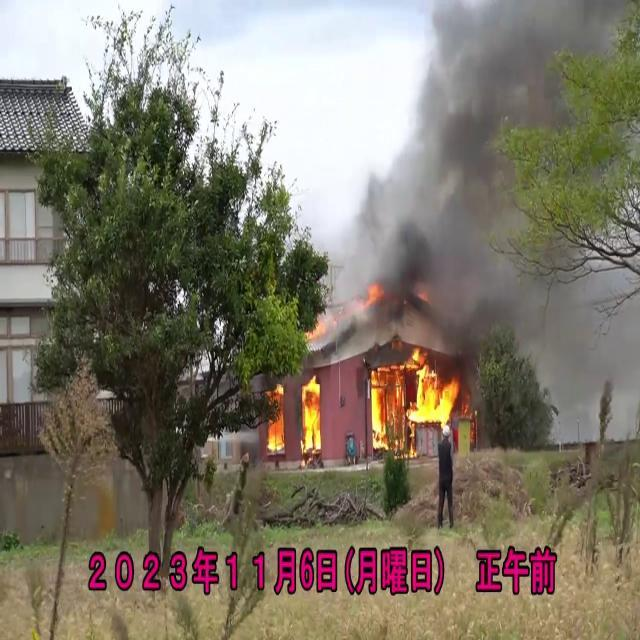Fire: (366, 342, 459, 457), (298, 378, 326, 452)
Smoke: (327, 0, 586, 350)
